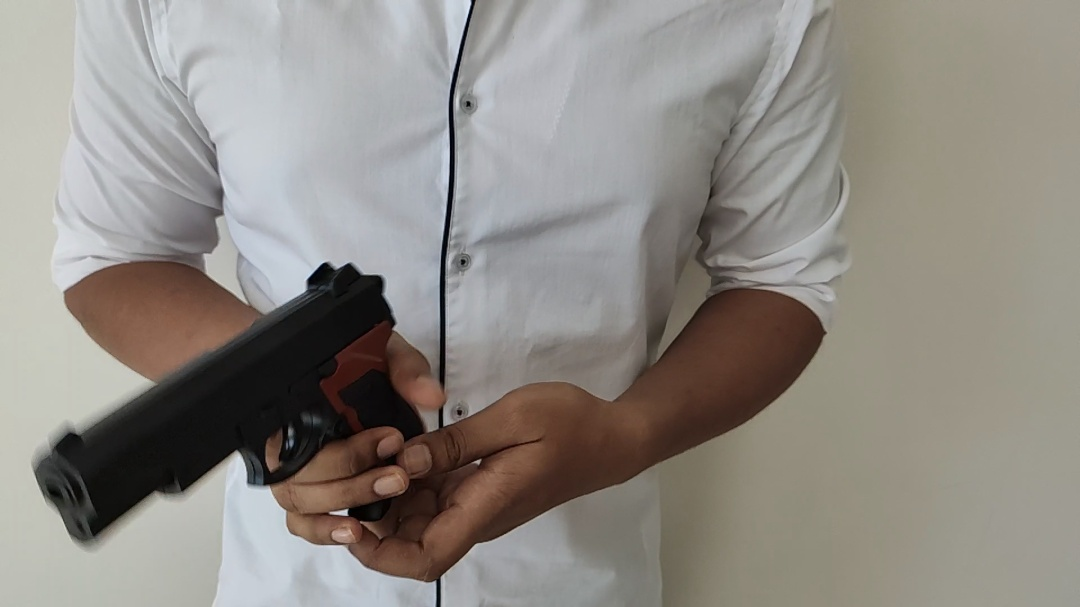gun: (31, 261, 423, 546)
